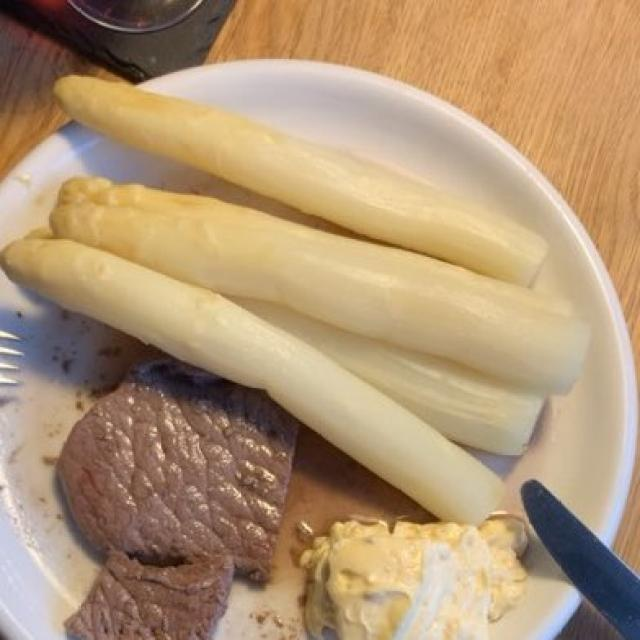asparagus: (22, 75, 570, 529)
beef: (62, 386, 292, 638)
mayonnaise: (300, 518, 525, 628)
